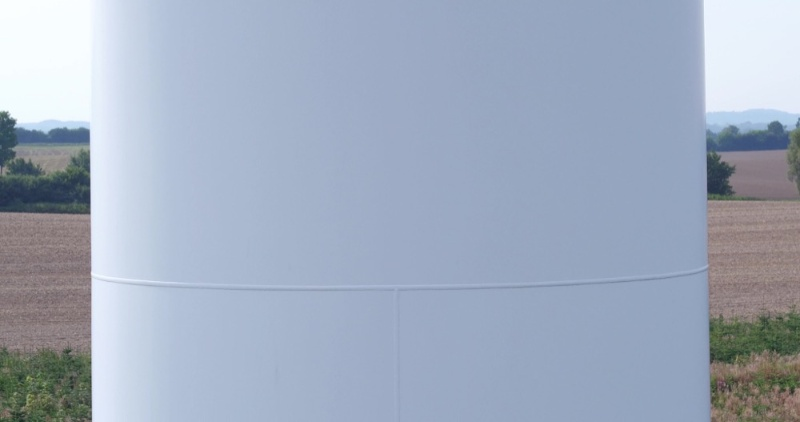weldseam: (86, 264, 712, 298), (389, 281, 411, 422)
